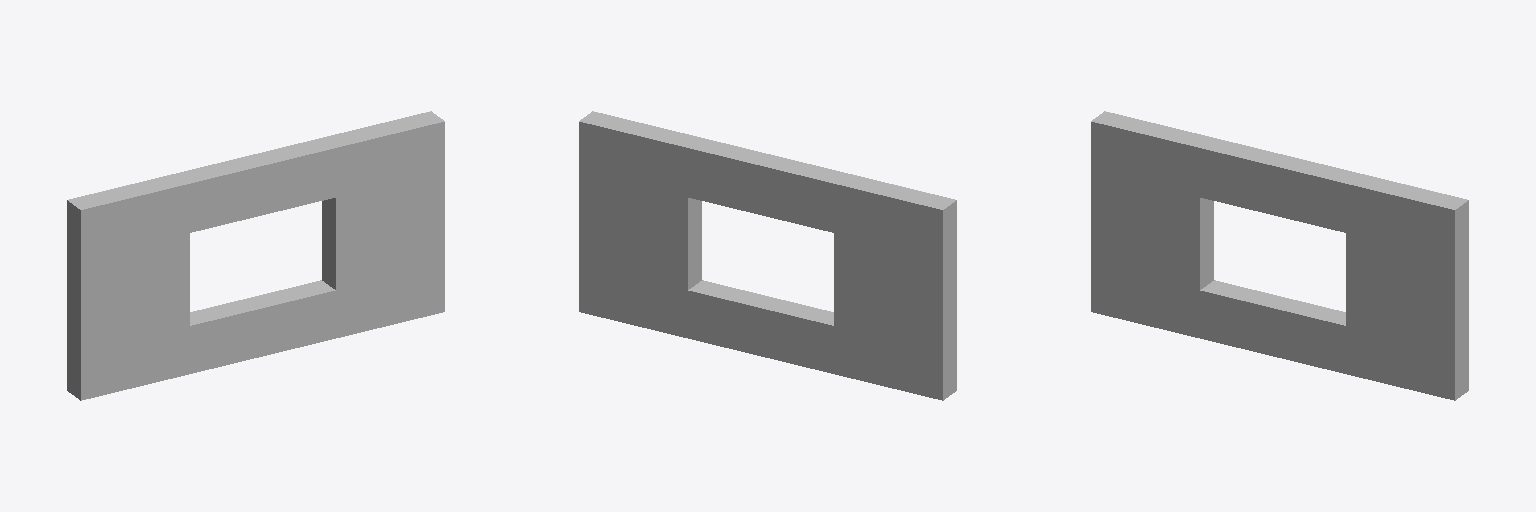
Rendered from WallWindowSmall.obj.
3 views of the same model, side by side, from view 1: azimuth 30°, elevation 25°; view 2: azimuth 150°, elevation 25°; view 3: azimuth 330°, elevation 25° (orthographic).
Parts seen in each view (by area): view 1: WallWindowSmall; view 2: WallWindowSmall; view 3: WallWindowSmall.
Boxes of the visible parts, x1=… form: WallWindowSmall: x1=67, y1=111, x2=444, y2=400; WallWindowSmall: x1=579, y1=111, x2=956, y2=400; WallWindowSmall: x1=1091, y1=111, x2=1468, y2=400.
Bounding box in the file's own units: 6 × 3 × 0.4.